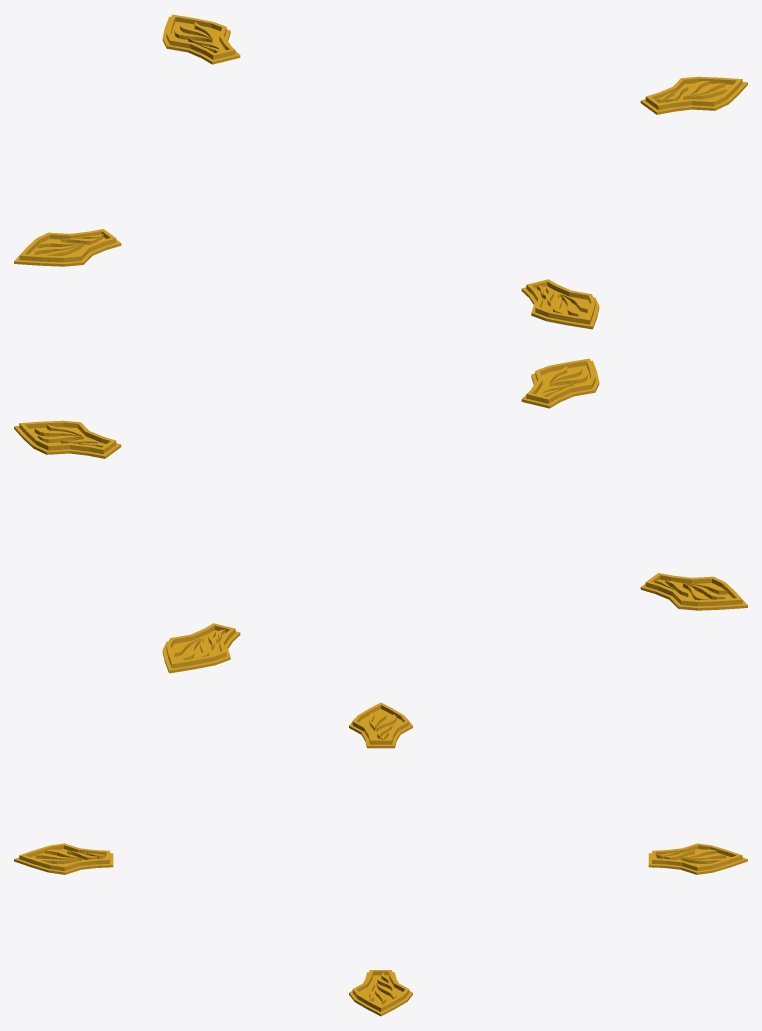
File: gold_deco_2.fbx
The picture shows the model from 3 angles, top to bottom: view 1: azimuth 30°, elevation 25°; view 2: azimuth 150°, elevation 25°; view 3: azimuth 270°, elevation 25°; orthographic projection. The views are drawn at different scales.
Visible parts, largest first — view 1: Plane.002; view 2: Plane.002; view 3: Plane.002.
Boxes of the visible parts, x1,y1,x2,y2 form: Plane.002: (14, 14, 747, 329); Plane.002: (14, 358, 747, 673); Plane.002: (14, 702, 747, 1016).
Bounding box in the file's own units: 2623 × 2623 × 23.95.
